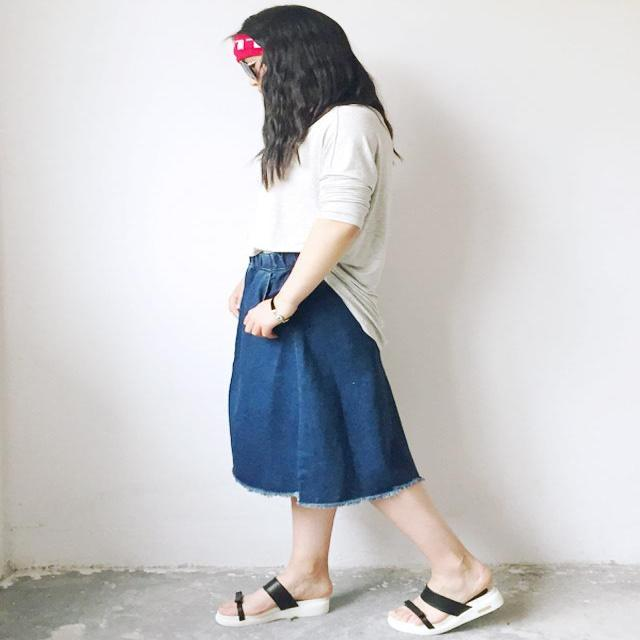short sleeve top: (252, 108, 395, 351)
skirt: (233, 256, 424, 507)
